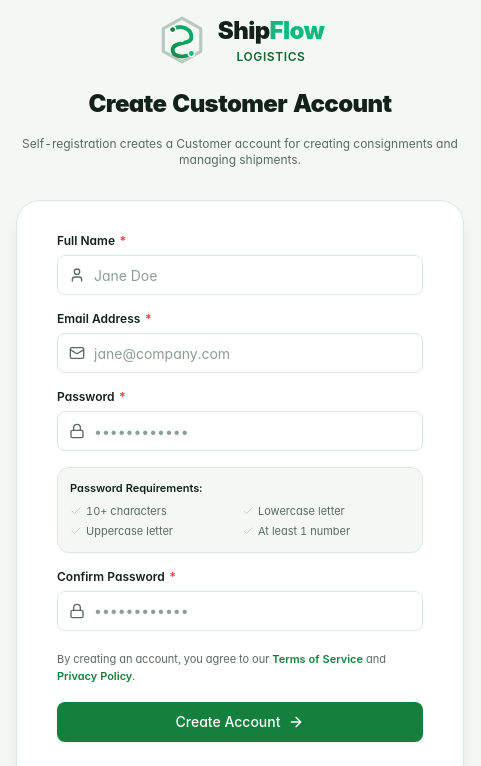
Scenario: RegisterPage › displays conflict error message when email is already registered
The width and height of the screenshot is (481, 766).
Type "Duplicate User" into the field labelled "Full Name *" at (240, 275), box x1=57 y1=255 x2=423 y2=295
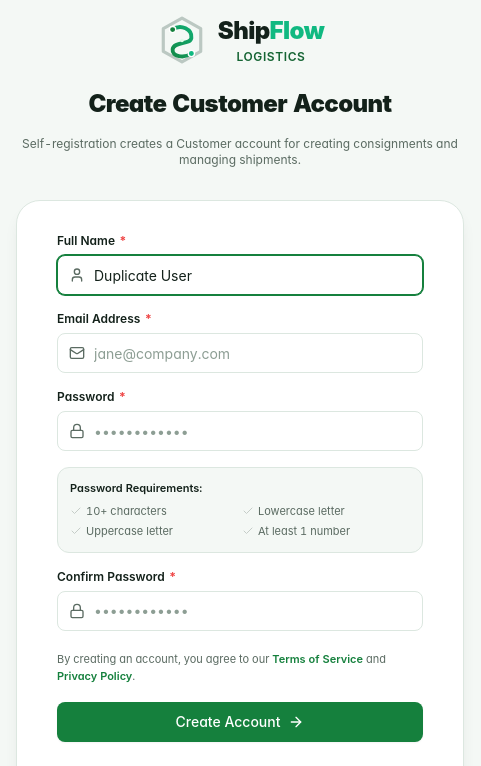
Type "duplicate@shipflow.local" into the field labelled "Email Address *" at (240, 353), box x1=57 y1=333 x2=423 y2=373
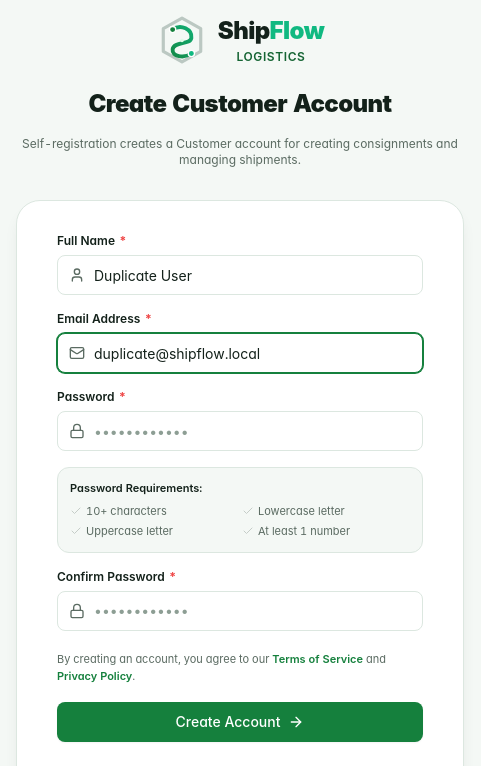
Type "ValidPassword123!" into the password field labelled "Password *" at (240, 431), box x1=57 y1=411 x2=423 y2=451
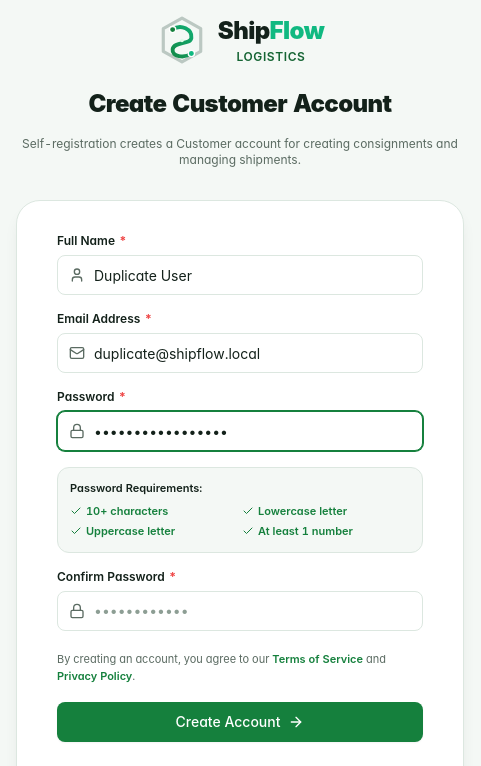
Type "ValidPassword123!" into the password field labelled "Confirm Password *" at (240, 610), box x1=57 y1=590 x2=423 y2=630
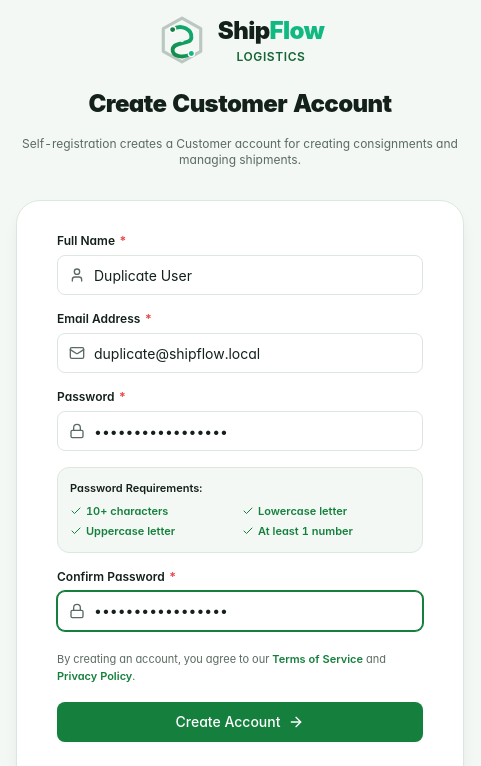
Click the button "Create Account" at (240, 722), box x1=57 y1=702 x2=423 y2=742
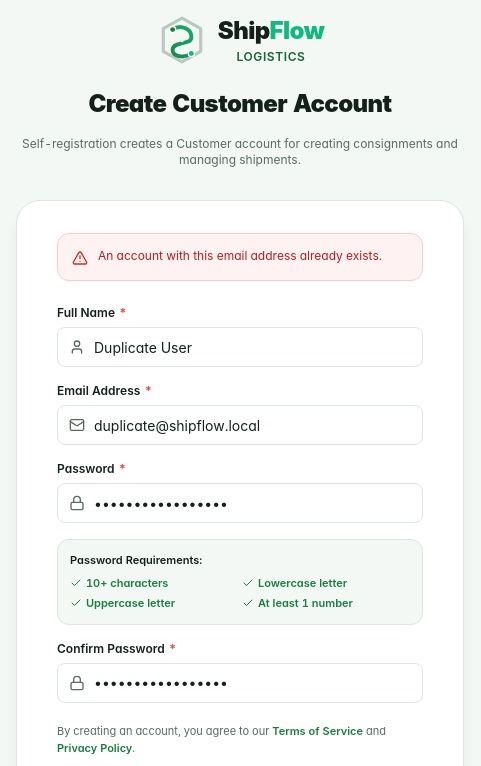
Now the text "An account with this email address already exists." is shown, box x1=98 y1=248 x2=382 y2=264
